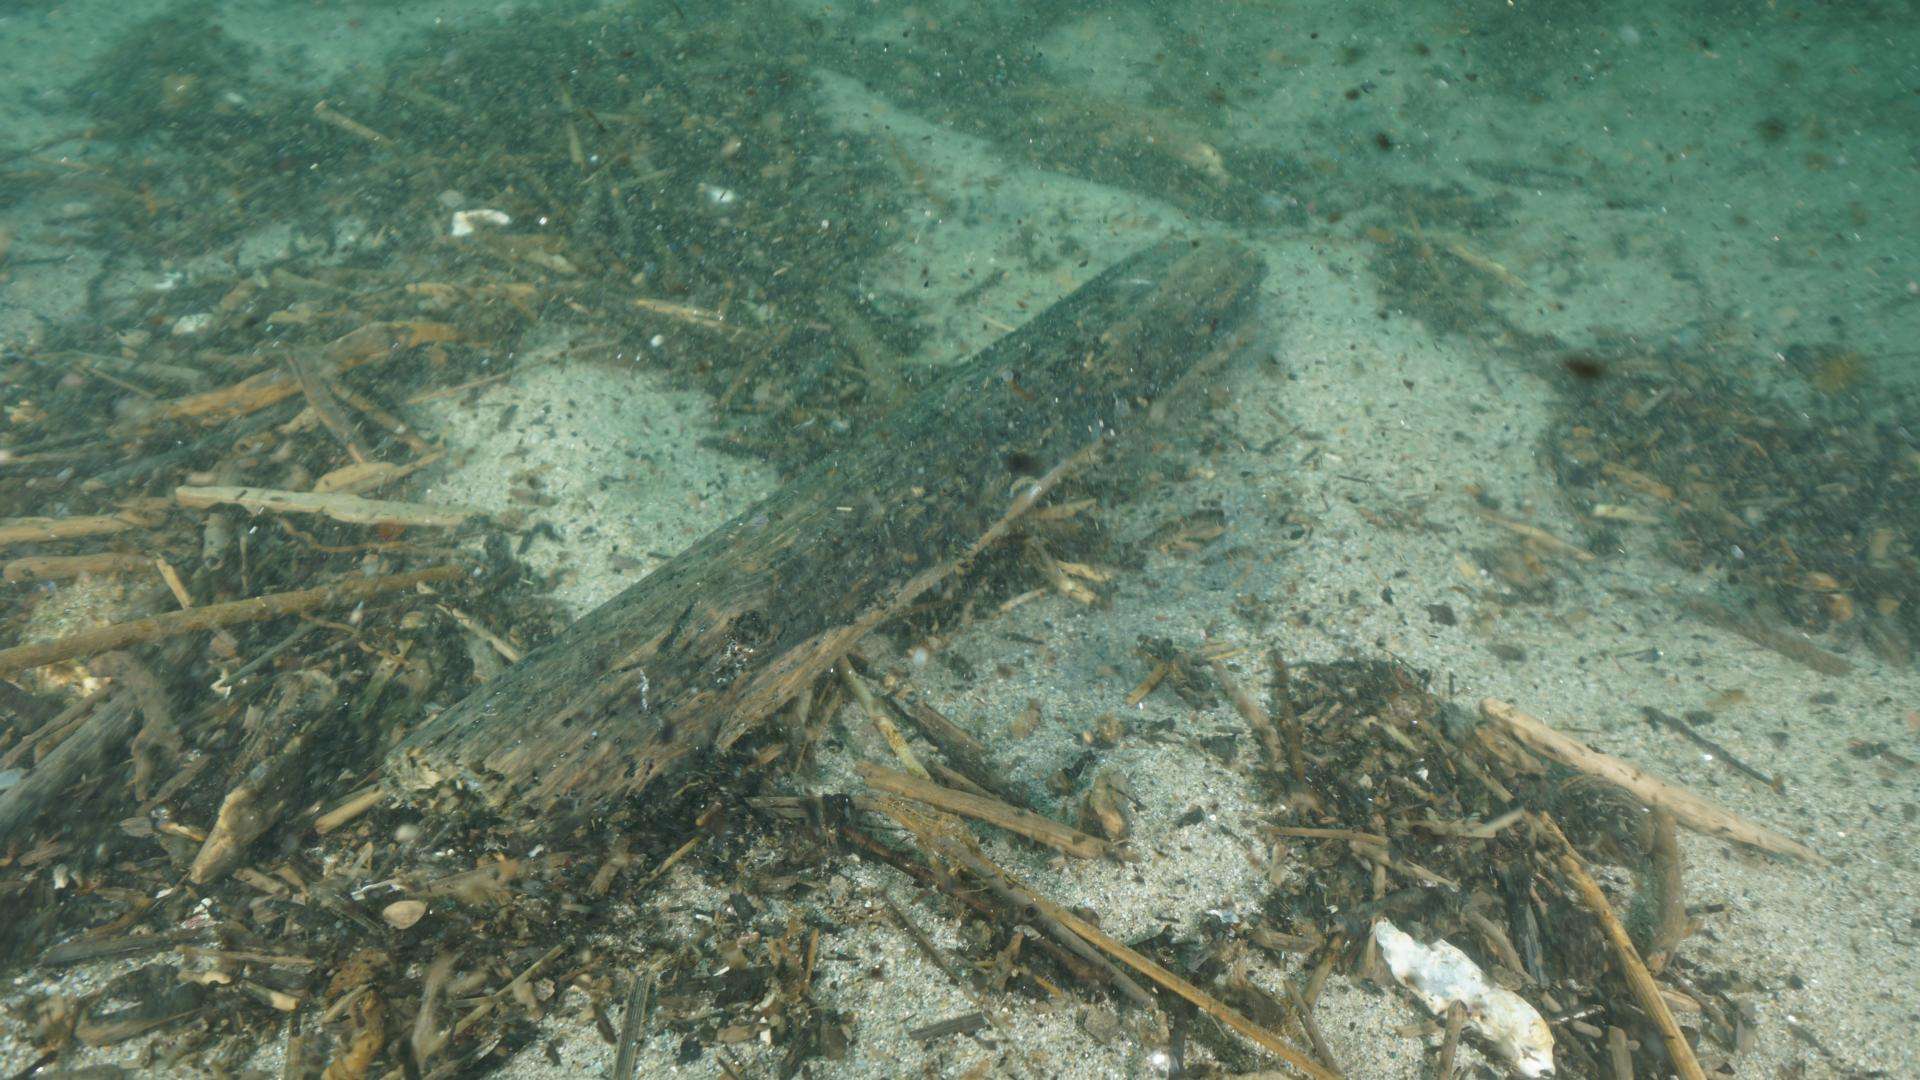wood: (385, 225, 1270, 843)
